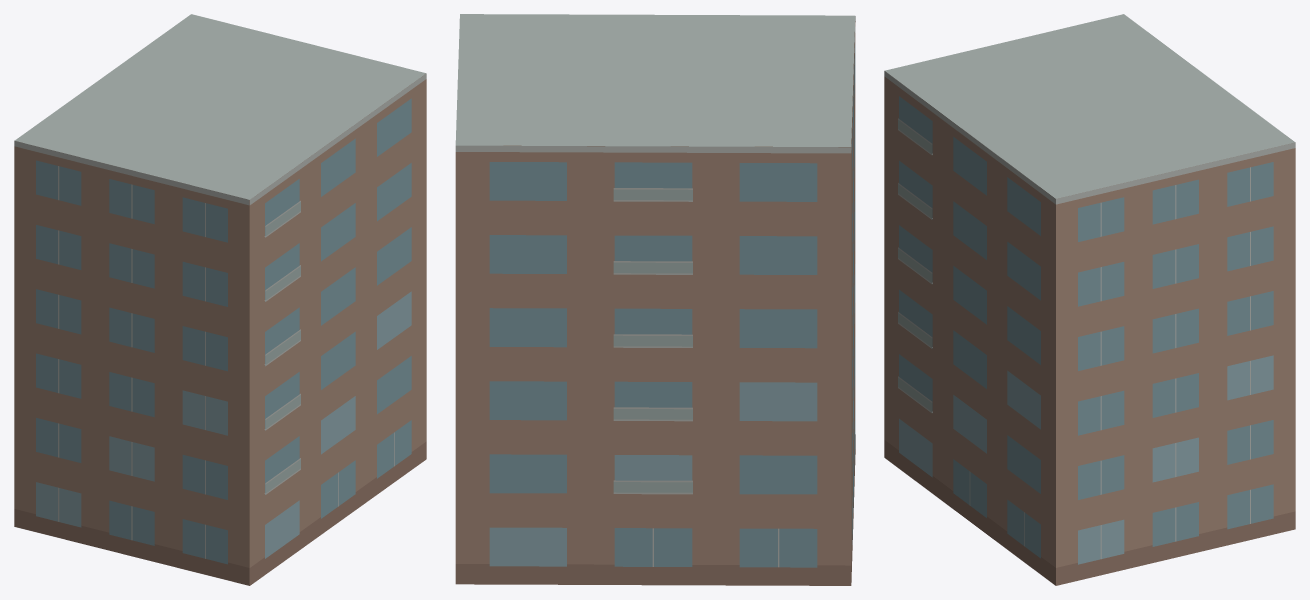
Rendered from survey-upis-32670615.glb.
3 renders of one model, left to right at view 1: azimuth 30°, elevation 25°; view 2: azimuth 150°, elevation 25°; view 3: azimuth 270°, elevation 25°, orthographic. The views are drawn at different scales.
Visible parts, largest first — view 1: survey-upis-32670615.tmp; view 2: survey-upis-32670615.tmp; view 3: survey-upis-32670615.tmp.
Boxes of the visible parts, x1,y1,x2,y2 form: survey-upis-32670615.tmp: (14, 14, 426, 585); survey-upis-32670615.tmp: (455, 14, 855, 585); survey-upis-32670615.tmp: (884, 14, 1295, 585).
Bounding box in the file's own units: 17.23 × 16.8 × 16.19.
